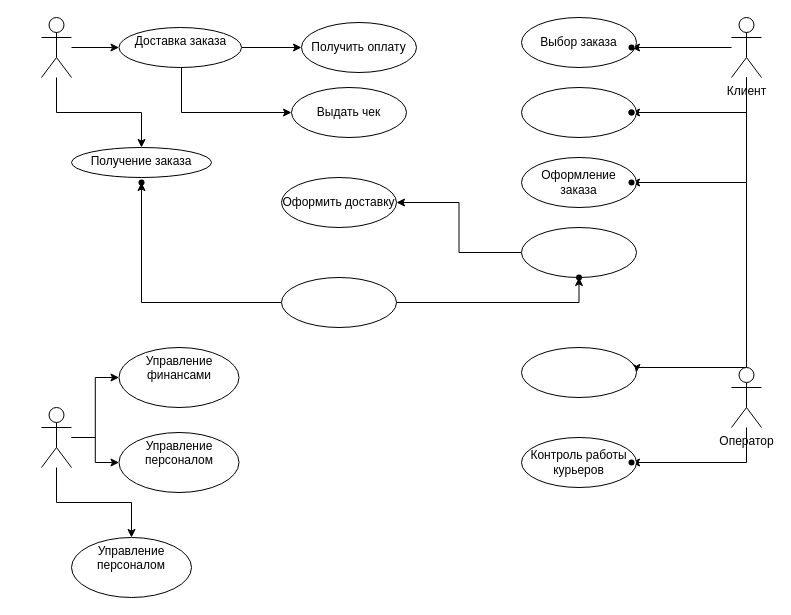
This 791x615 diagram has some shape labels left out. The box of each missing label's shape, as (x1, y1, x2, y2) in pixels:
Курьер: (40, 16, 72, 78)
Оплата заказа: (520, 226, 636, 278)
Оплатить через банк: (280, 276, 396, 328)
Отказ от заказа: (520, 86, 636, 138)
Принятие заказа: (520, 346, 636, 398)
Управляющий: (40, 406, 72, 468)
